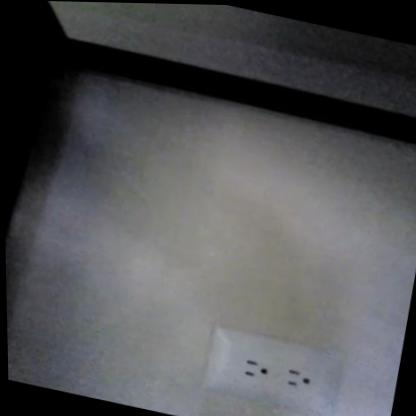OUTLET: (197, 323, 345, 416)
